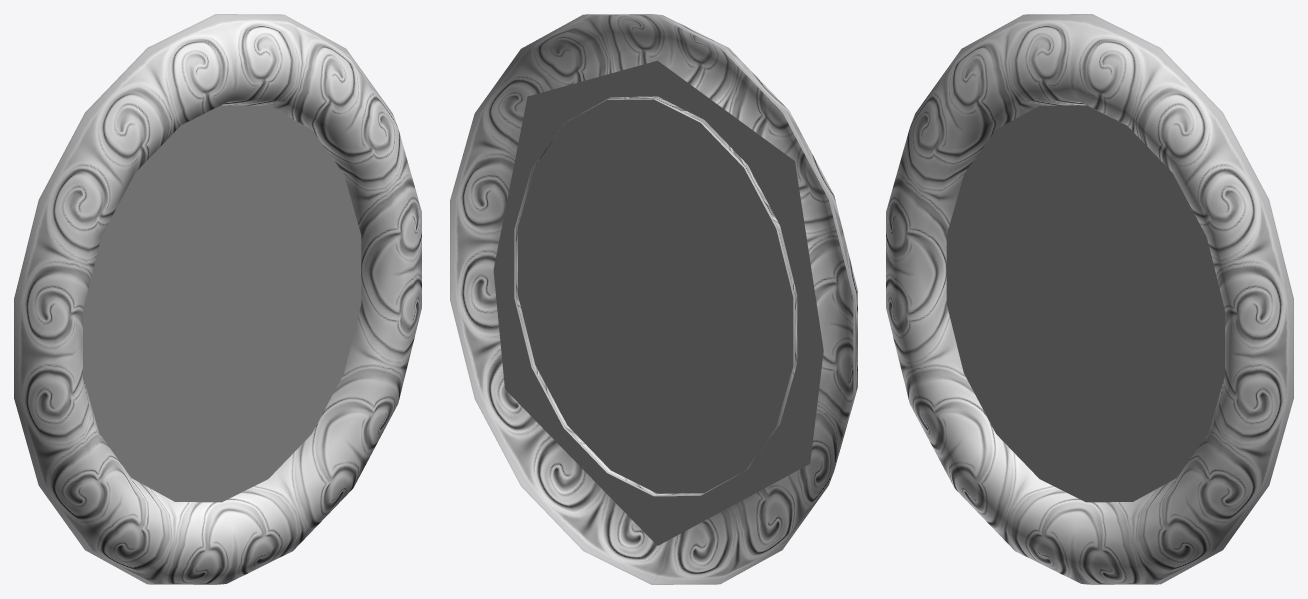
Rendered from Mirror01.FBX.
3 renders of one model, left to right at view 1: azimuth 30°, elevation 25°; view 2: azimuth 150°, elevation 25°; view 3: azimuth 330°, elevation 25°, orthographic.
Visible parts, largest first — view 1: Mirror01, Mirror01_M; view 2: Mirror01_M, Mirror01; view 3: Mirror01, Mirror01_M.
Part boxes in pixels (x1,y1,x2,y2): Mirror01: (14, 14, 421, 584); Mirror01_M: (83, 105, 361, 502); Mirror01_M: (493, 60, 823, 545); Mirror01: (450, 14, 857, 584); Mirror01: (886, 14, 1293, 584); Mirror01_M: (946, 105, 1224, 502).
Size of the model in its own units: 73.66 by 99.62 by 6.43.
